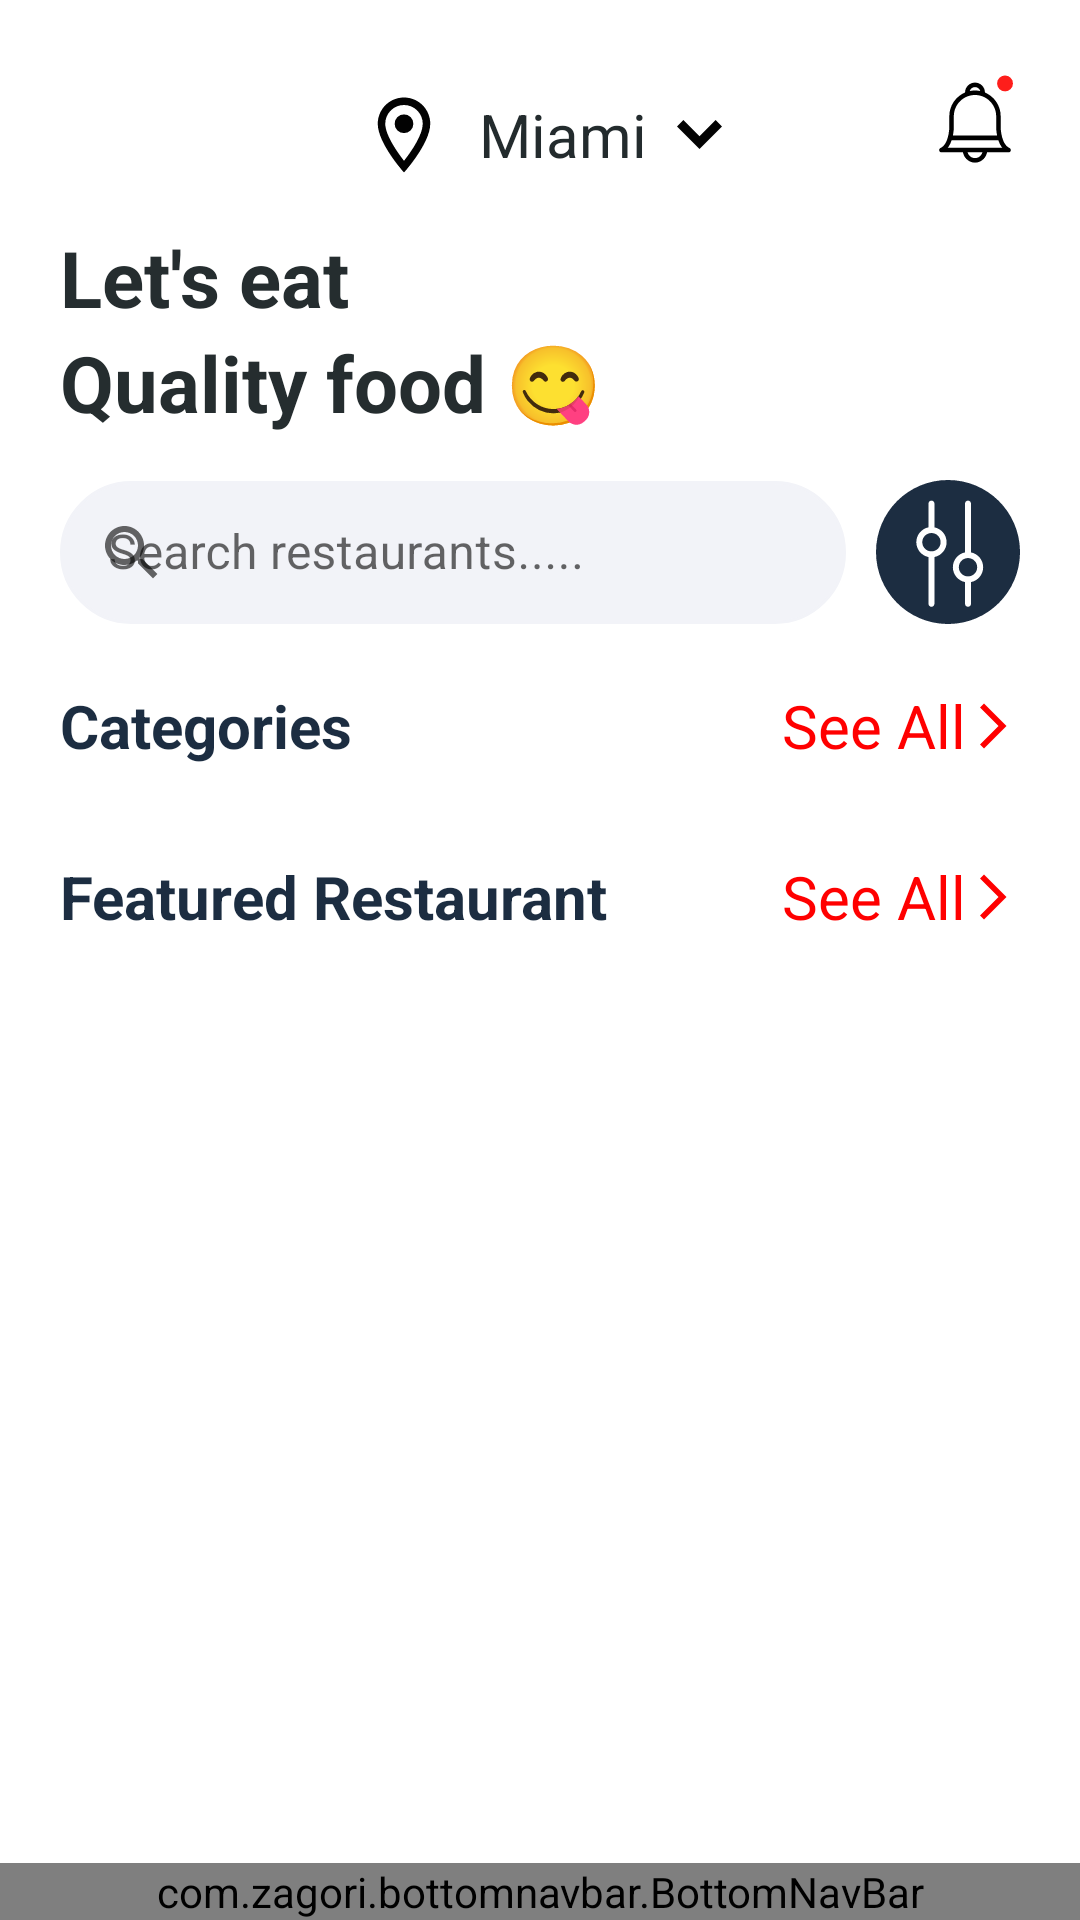

Point at icon controls on the screen. Image size 1080x1920, points as [x,y].
arrow forward: [993,726], [993,897]
down arrow: [699,134]
location on: [404,134]
notification: [976,119]
settings: [948,552]
